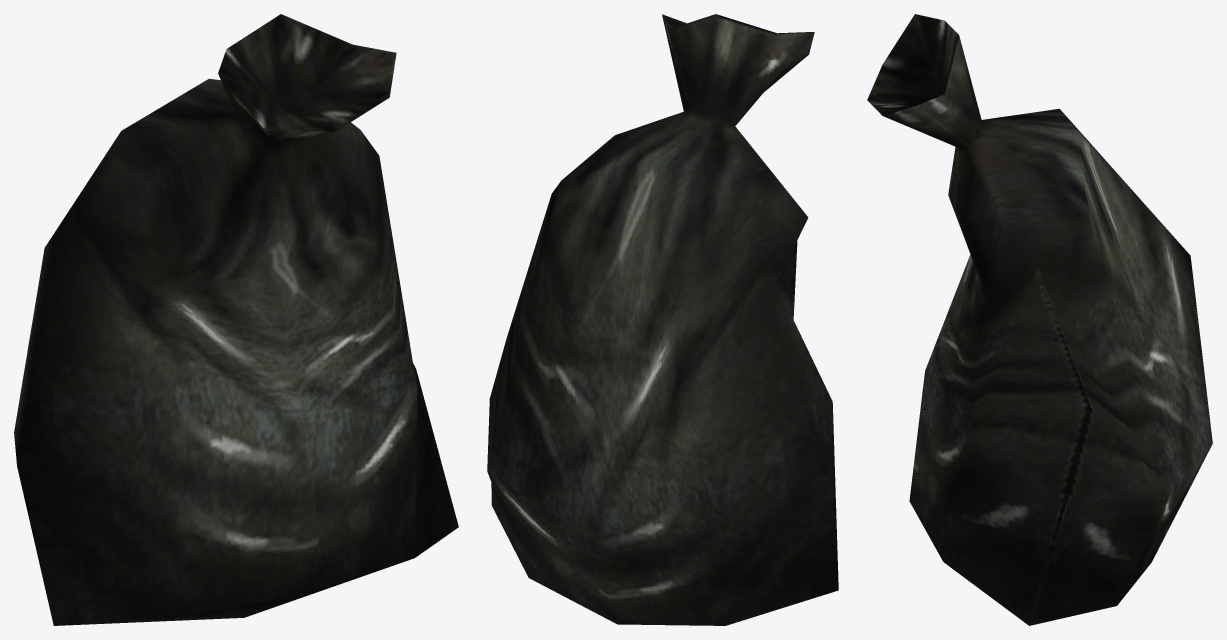
Rendered from trashbag2.glb.
The picture shows the model from 3 angles, left to right: view 1: azimuth 30°, elevation 25°; view 2: azimuth 150°, elevation 25°; view 3: azimuth 270°, elevation 25°; orthographic projection. The views are drawn at different scales.
Visible parts, largest first — view 1: bag01; view 2: bag01; view 3: bag01.
Part boxes in pixels (x1,y1,x2,y2): bag01: (14,14,458,625); bag01: (487,14,838,625); bag01: (867,14,1212,625).
Bounding box in the file's own units: 28.19 × 40.51 × 24.01.
Materials: 1 (1 with a texture image).
